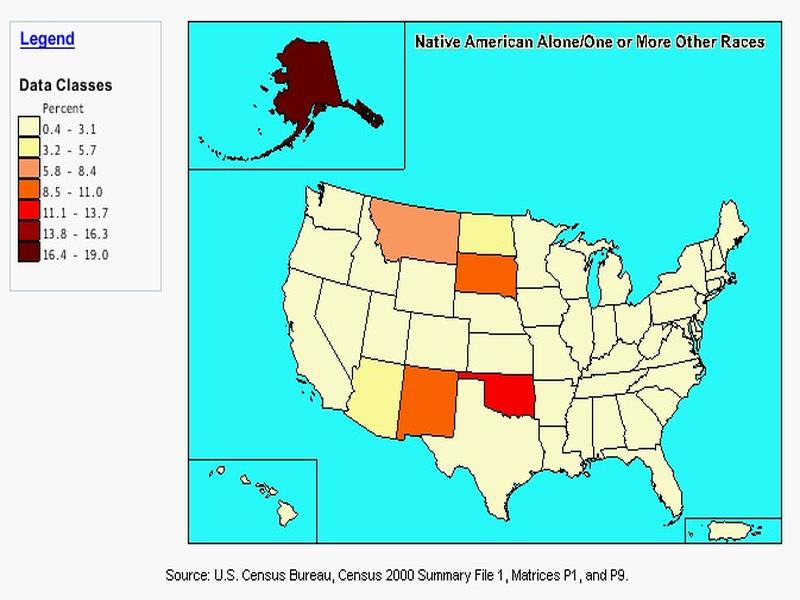legend: (7, 19, 163, 294)
